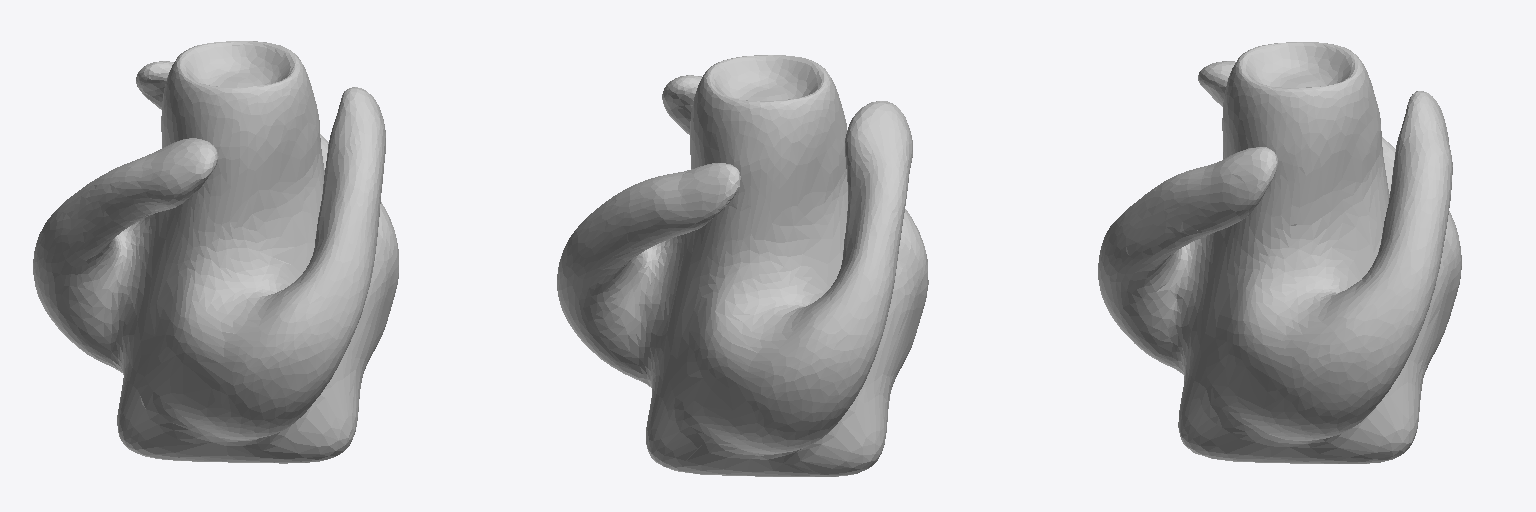
File: move.obj
3 renders of one model, left to right at view 1: azimuth 30°, elevation 25°; view 2: azimuth 150°, elevation 25°; view 3: azimuth 270°, elevation 25°, orthographic.
Parts seen in each view (by area): view 1: Quad_Sphere; view 2: Quad_Sphere; view 3: Quad_Sphere.
Part boxes in pixels (left/top/right/bottom): Quad_Sphere: left=33, top=41, right=398, bottom=463; Quad_Sphere: left=557, top=55, right=928, bottom=476; Quad_Sphere: left=1098, top=42, right=1461, bottom=463.
Size of the model in its own units: 4.64 by 5.13 by 4.49.